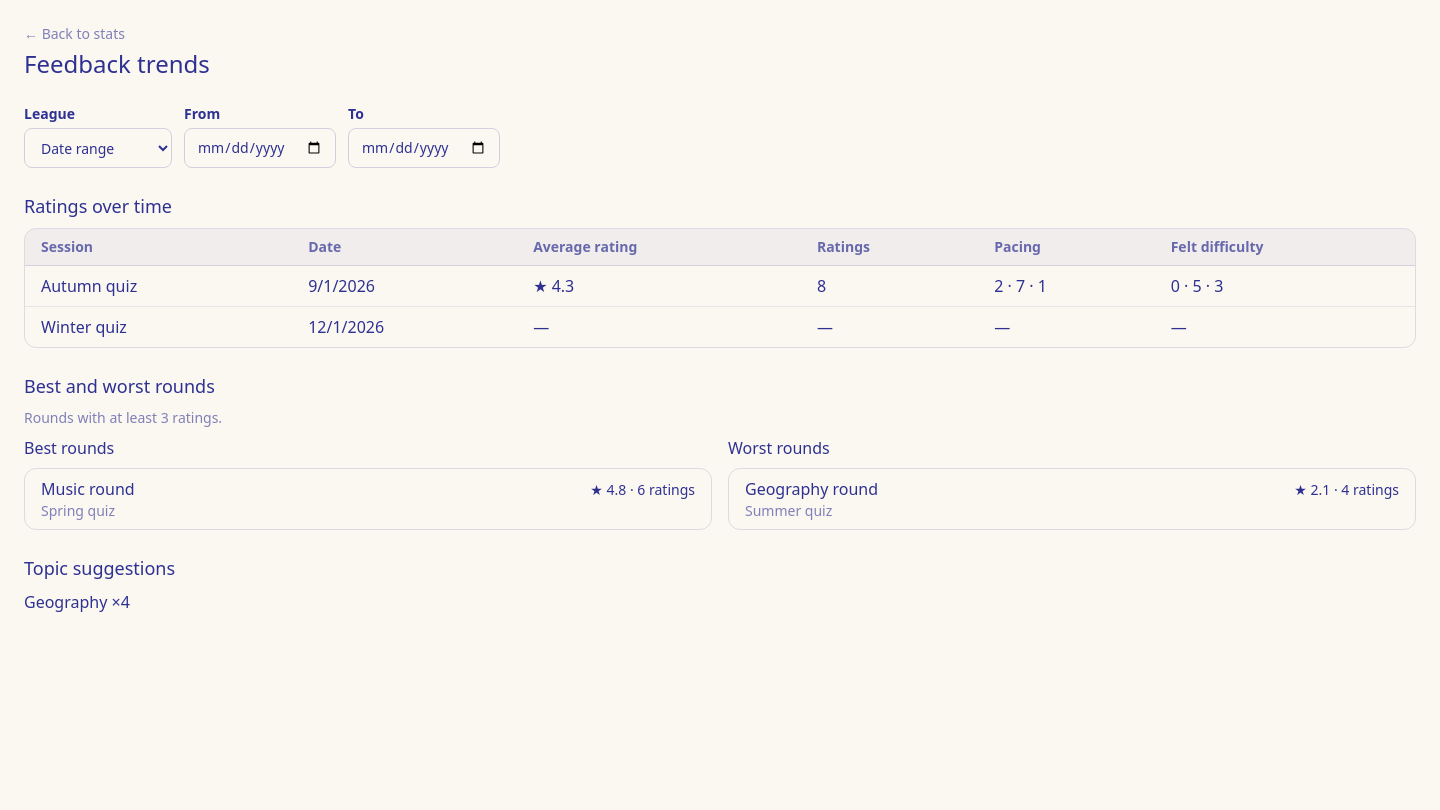
Test: FeedbackTrendsPanel › switches from a date range to a league and back
Expected: the text "Autumn quiz" is shown, [25,266,292,306]
Type "2026-09-01" into the date field labelled "From".
click(260, 148); type("2026-09-01")  # box [184,128,336,168]
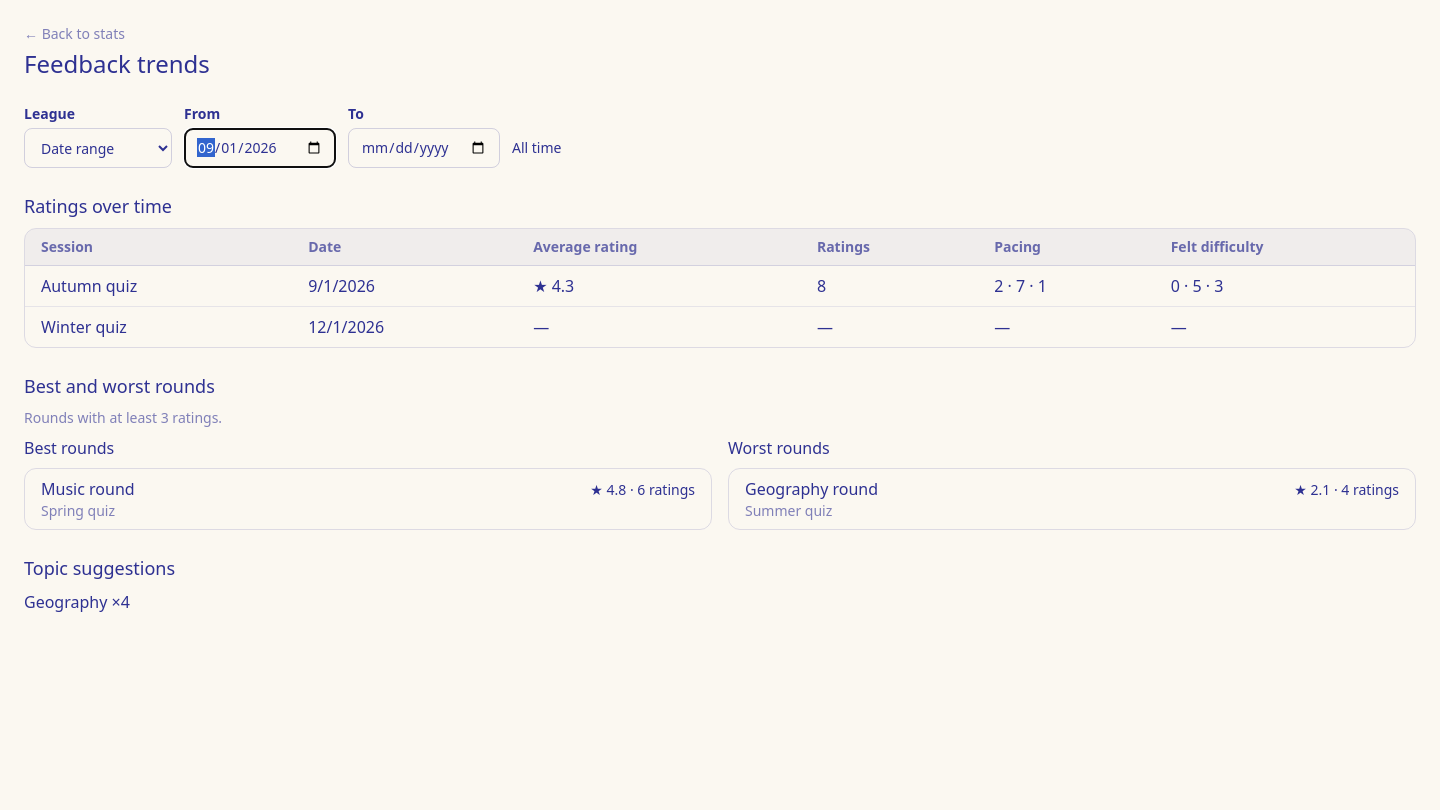
Select "Autumn league" in the dropdown labelled "League" at (98, 148), box [24,128,172,168]
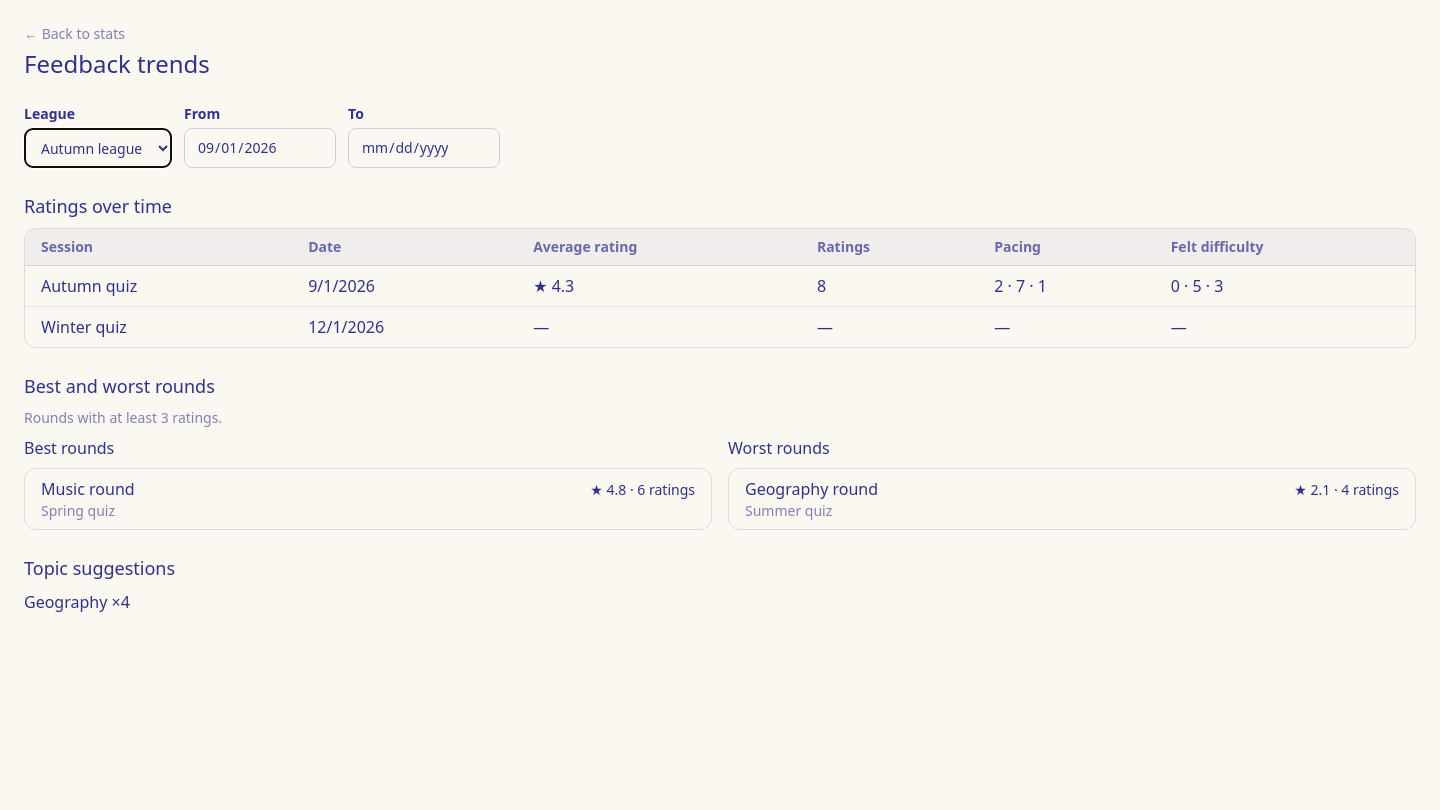
Expected: the date field labelled "From" is disabled, [184,128,336,168]
Expected: the date field labelled "To" is disabled, [348,128,500,168]
Select "Date range" in the dropdown labelled "League" at (98, 148), box [24,128,172,168]
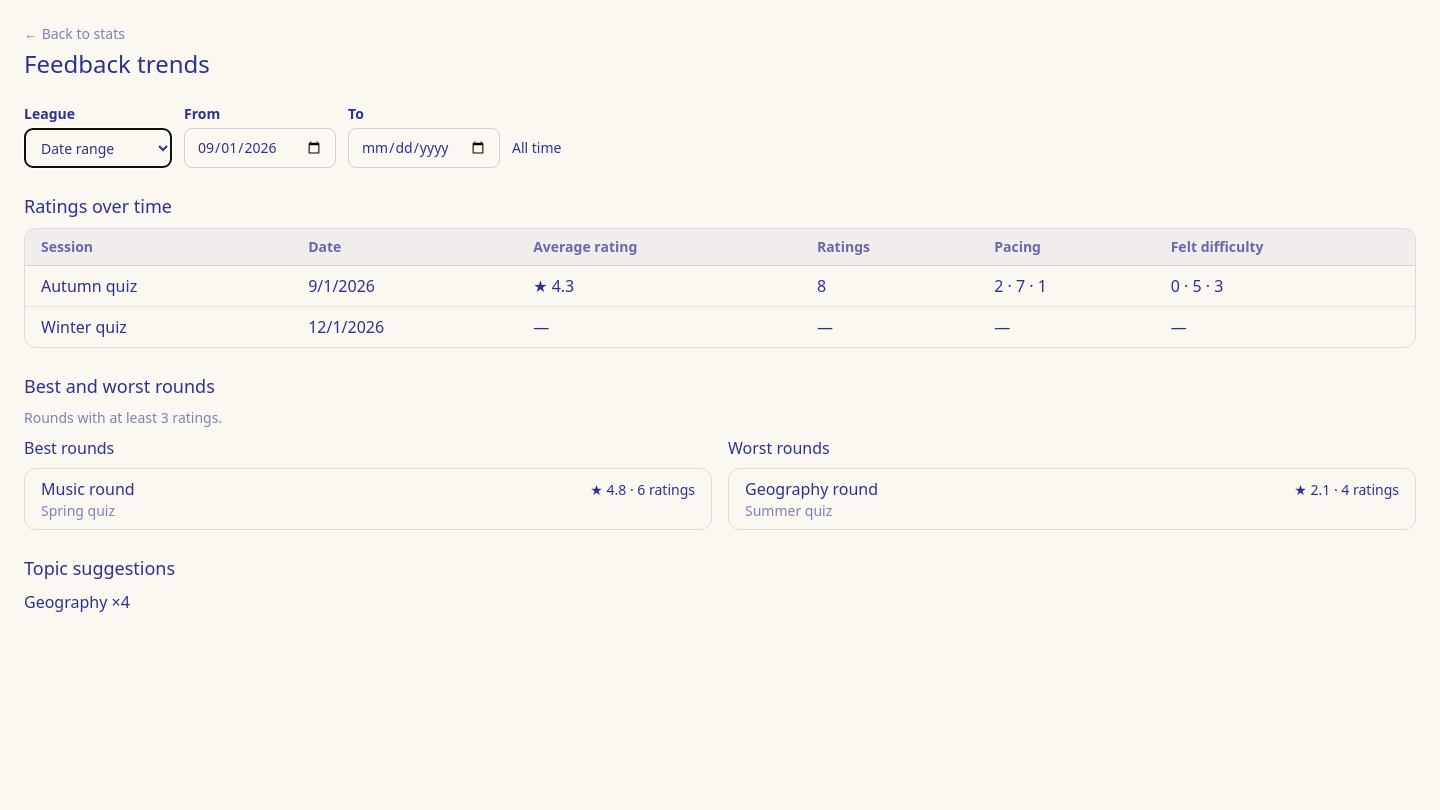
Expected: the date field labelled "From" is enabled, [184,128,336,168]
